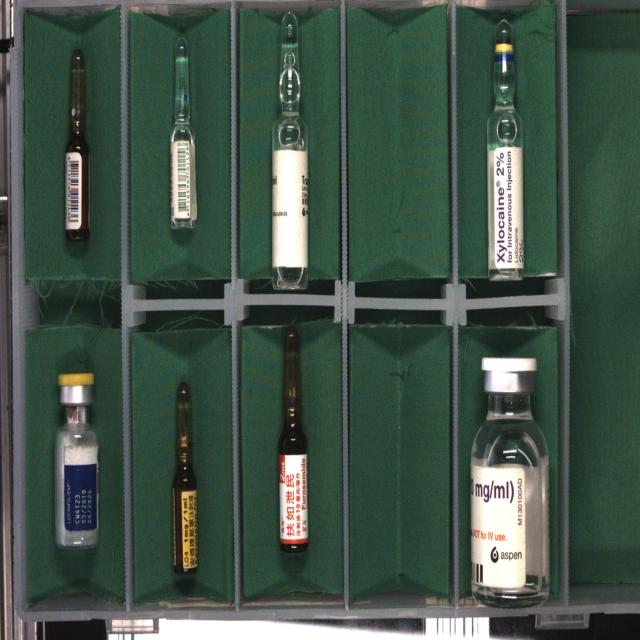Vials: (469, 357, 551, 608), (55, 373, 98, 547)
